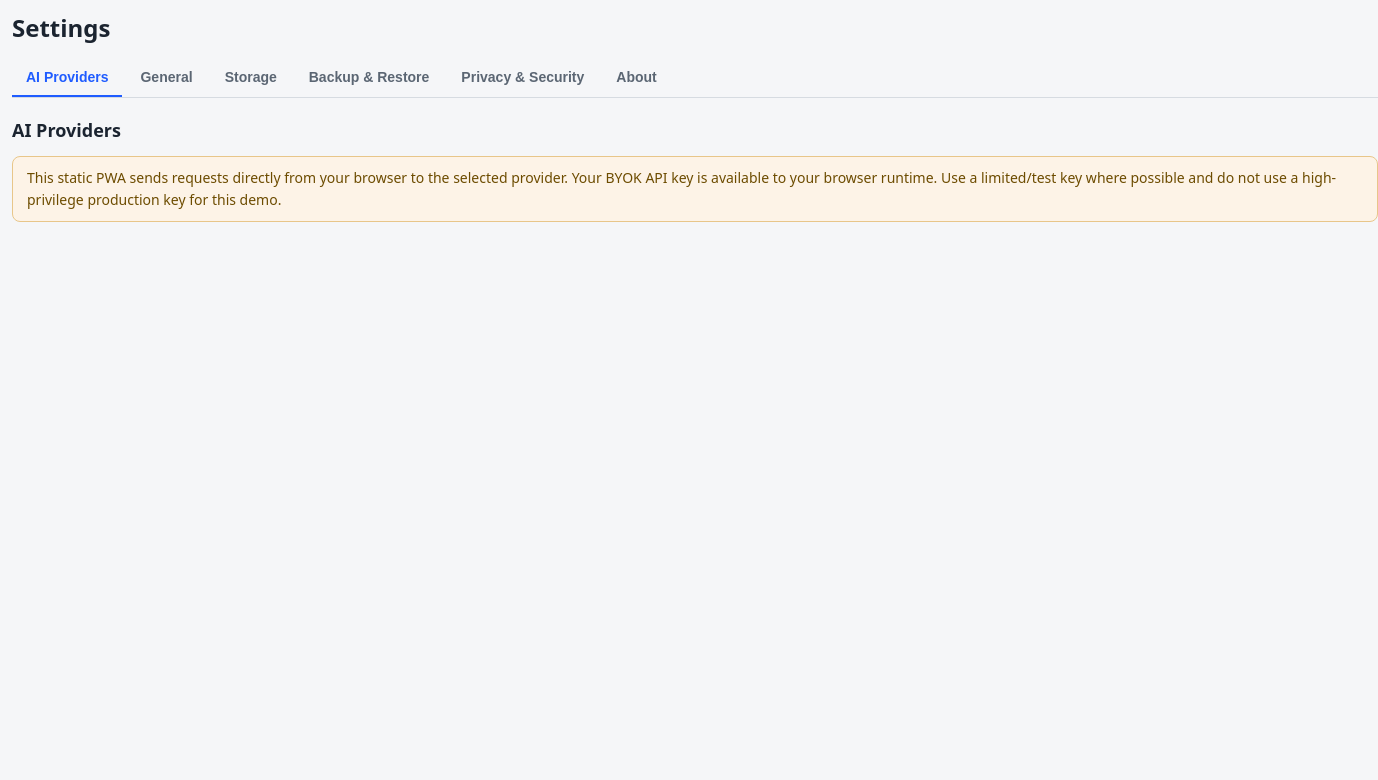
Test: SettingsHubPage › Storage tab shows record counts and restores the bundled demo after clearing user data
Click the tab "Storage" at (251, 78), box [211,59,291,97]
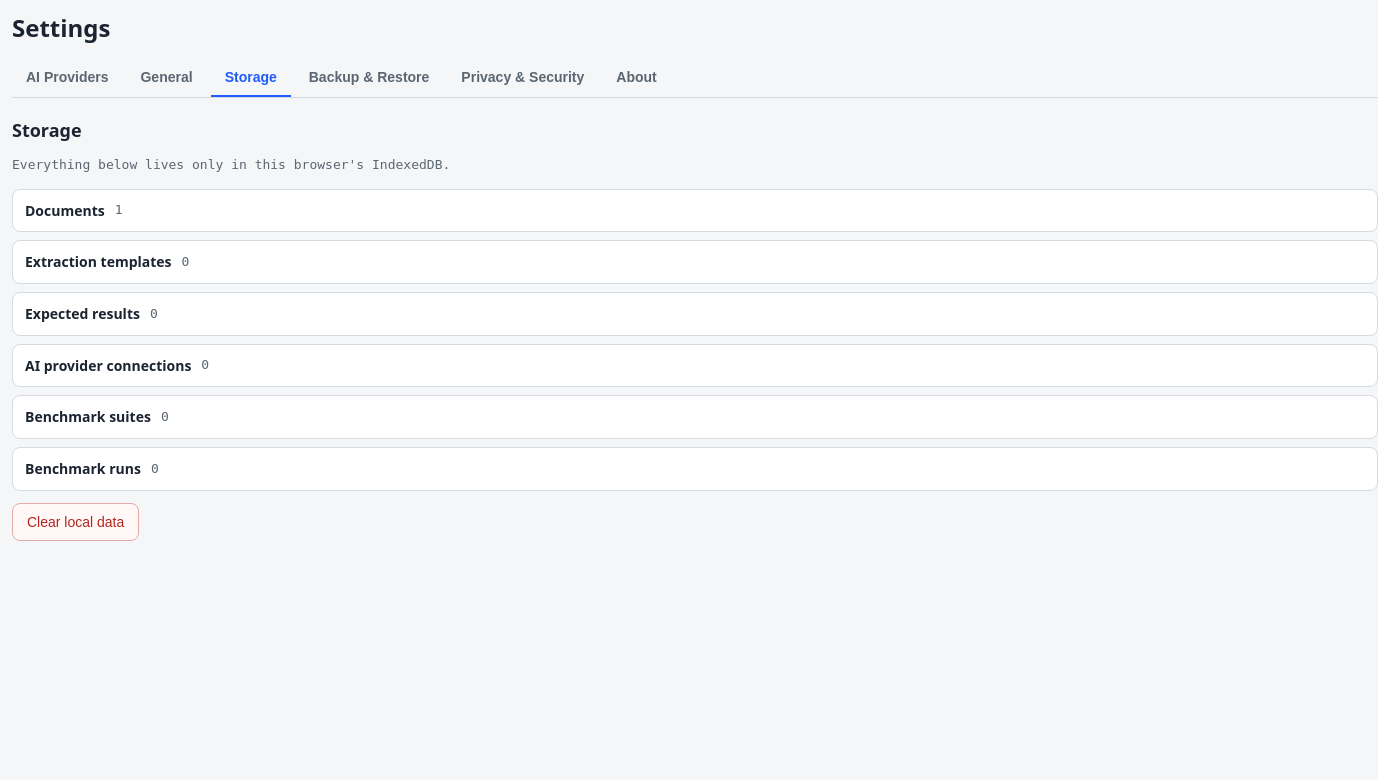
expect the text "1" is shown: met, box [115,200,122,220]
Click the button "Clear local data" at (76, 522), box [12,503,139,541]
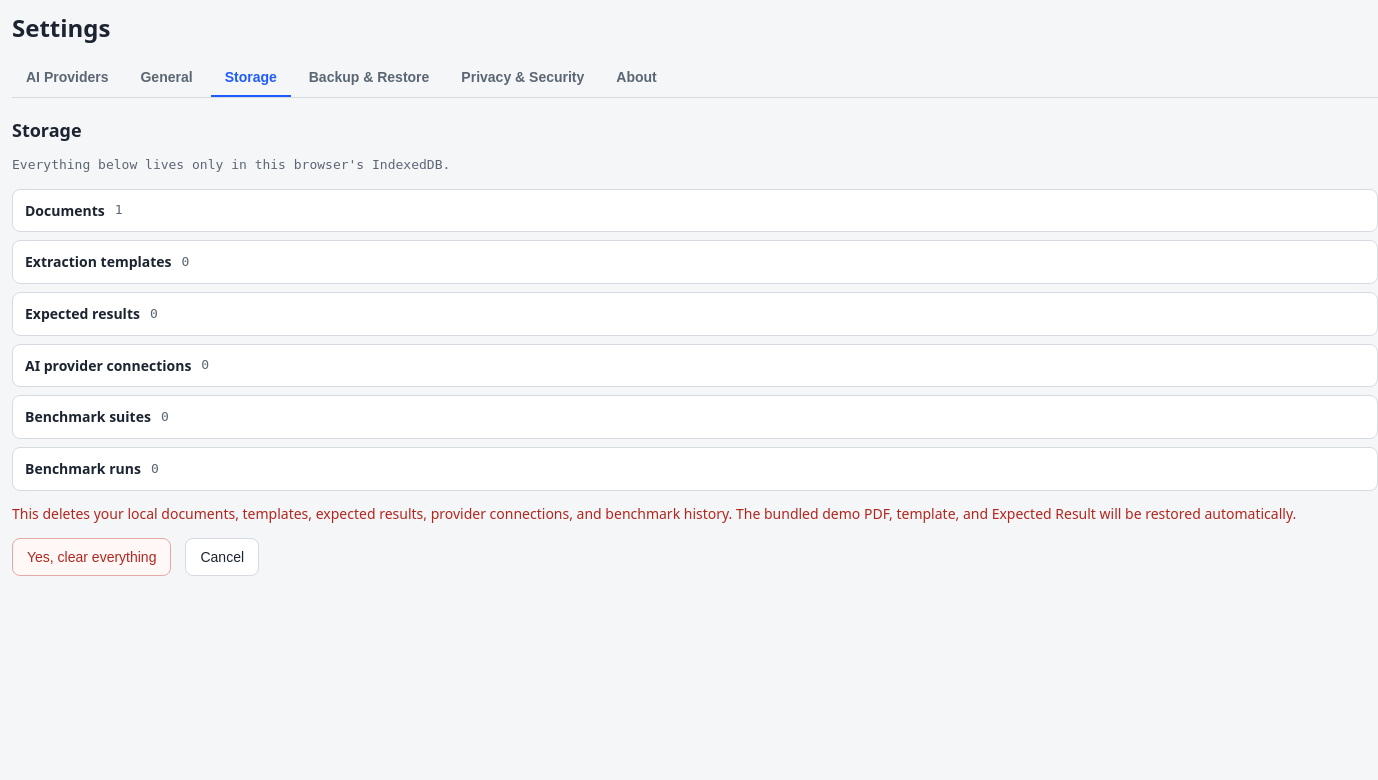
expect the button "Yes, clear everything" is shown: met
Click the button "Yes, clear everything" at (92, 557), box [12,538,172,576]
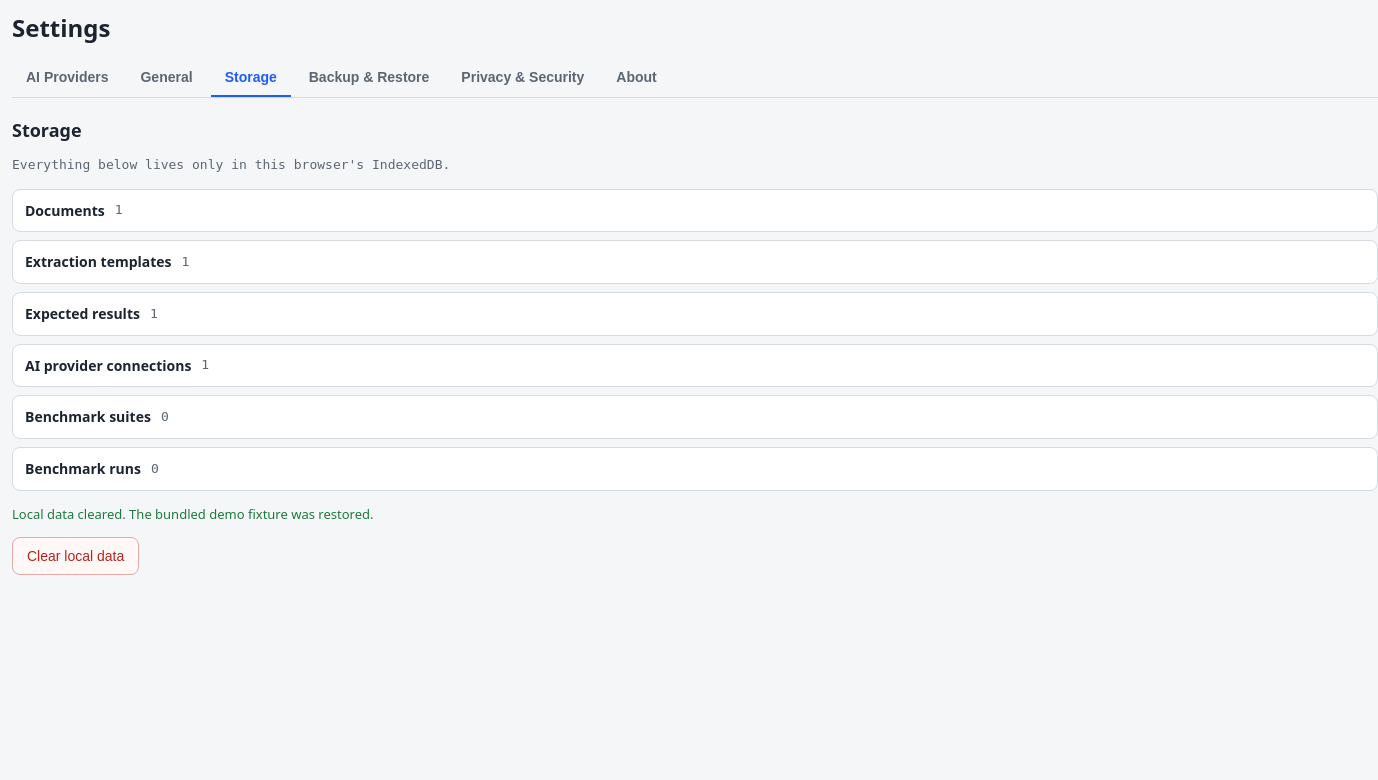
expect the text "Local data cleared. The bundled demo fixture was restored." is shown: met, box [12,505,374,523]
